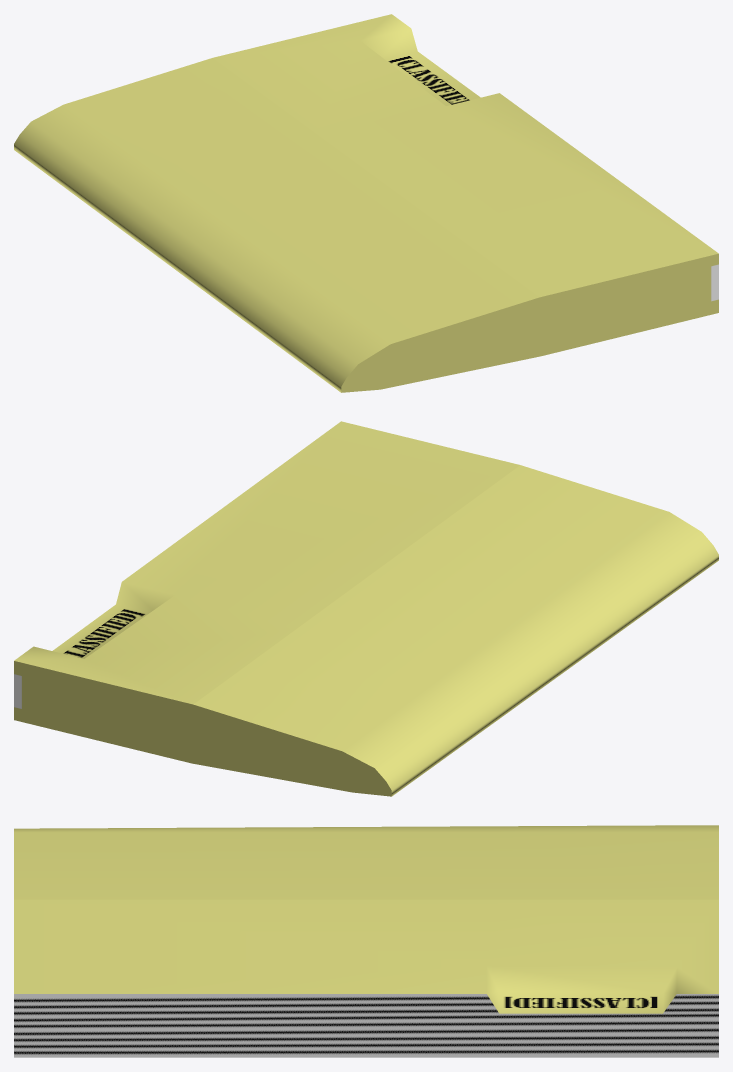
The model's file is item_folder_1.fbx.
3 renders of one model, top to bottom at view 1: azimuth 30°, elevation 25°; view 2: azimuth 150°, elevation 25°; view 3: azimuth 270°, elevation 25°, orthographic. The views are drawn at different scales.
Visible parts, largest first — view 1: item_folder_1; view 2: item_folder_1; view 3: item_folder_1.
Boxes of the visible parts, x1,y1,x2,y2 form: item_folder_1: (14,14,718,392); item_folder_1: (14,421,718,796); item_folder_1: (14,825,718,1057).
Size of the model in its own units: 40 by 6 by 60.
